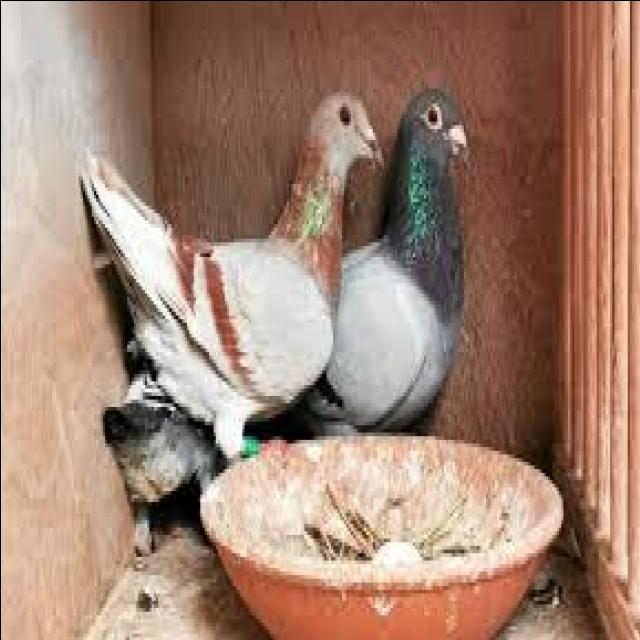pigeon: (92, 73, 376, 461)
